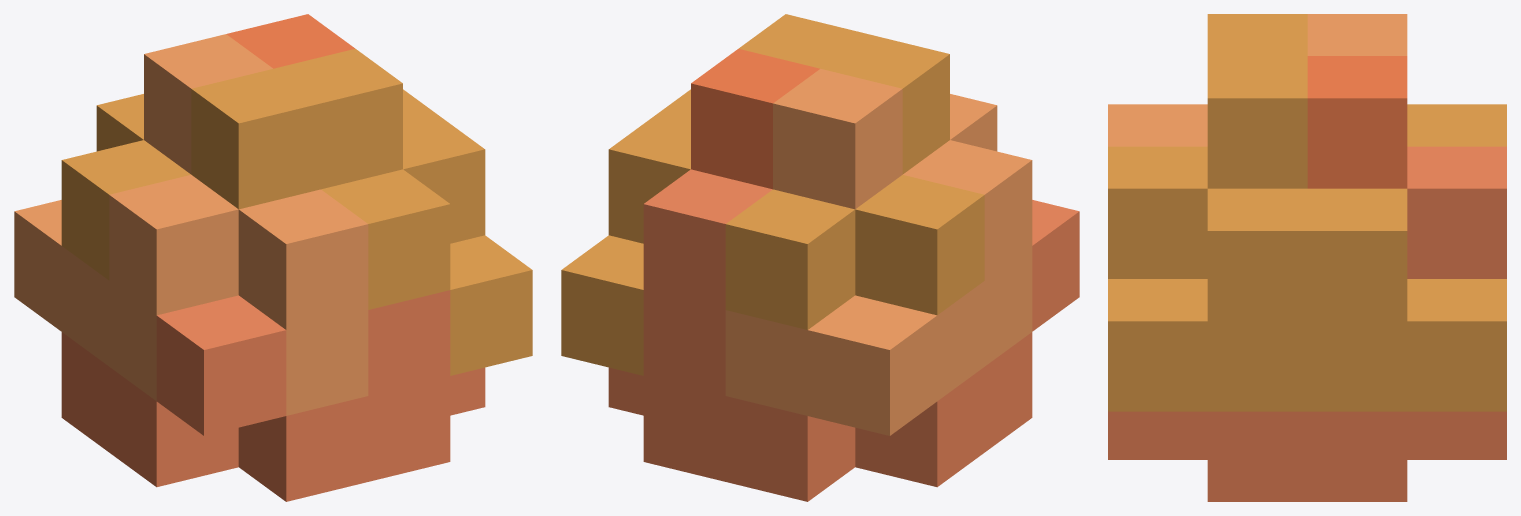
File: Karen_Tatiana_Sandoval_Malagón_fase_1.obj
3 views of the same model, side by side, from view 1: azimuth 30°, elevation 25°; view 2: azimuth 150°, elevation 25°; view 3: azimuth 270°, elevation 25° (orthographic). The views are drawn at different scales.
Parts seen in each view (by area): view 1: Karen_Tatiana_Sandoval_Malagón_fase_1; view 2: Karen_Tatiana_Sandoval_Malagón_fase_1; view 3: Karen_Tatiana_Sandoval_Malagón_fase_1.
Boxes of the visible parts, box(x1,y1,x2,y2) form: Karen_Tatiana_Sandoval_Malagón_fase_1: box(14, 14, 532, 501); Karen_Tatiana_Sandoval_Malagón_fase_1: box(561, 14, 1079, 501); Karen_Tatiana_Sandoval_Malagón_fase_1: box(1108, 14, 1506, 501).
Bounding box in the file's own units: 4 × 4 × 4.
Materials: 1 (1 with a texture image).
